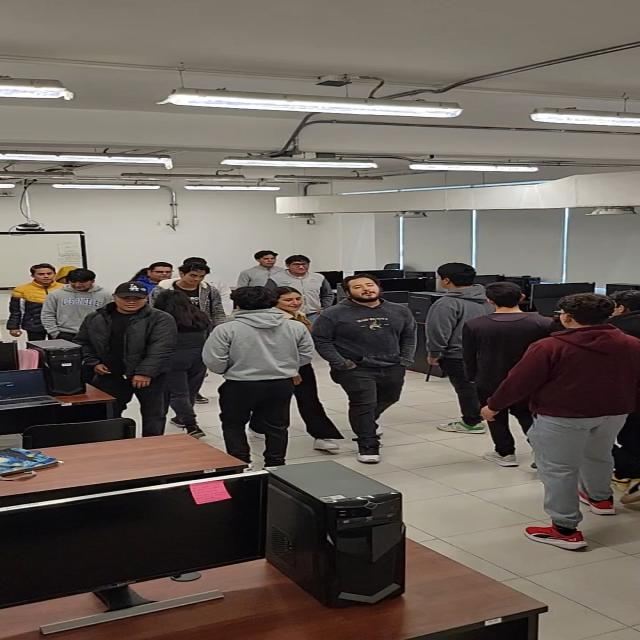Persona: (500, 290, 640, 550), (311, 274, 414, 470), (213, 287, 290, 473), (471, 276, 538, 467), (87, 277, 163, 433), (417, 259, 480, 431), (161, 286, 214, 432), (44, 267, 98, 335), (283, 255, 329, 312)
